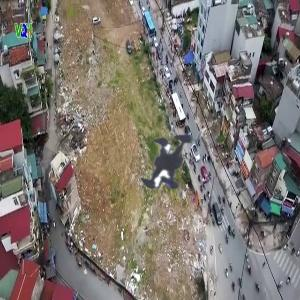drone: (105, 99, 235, 229)
